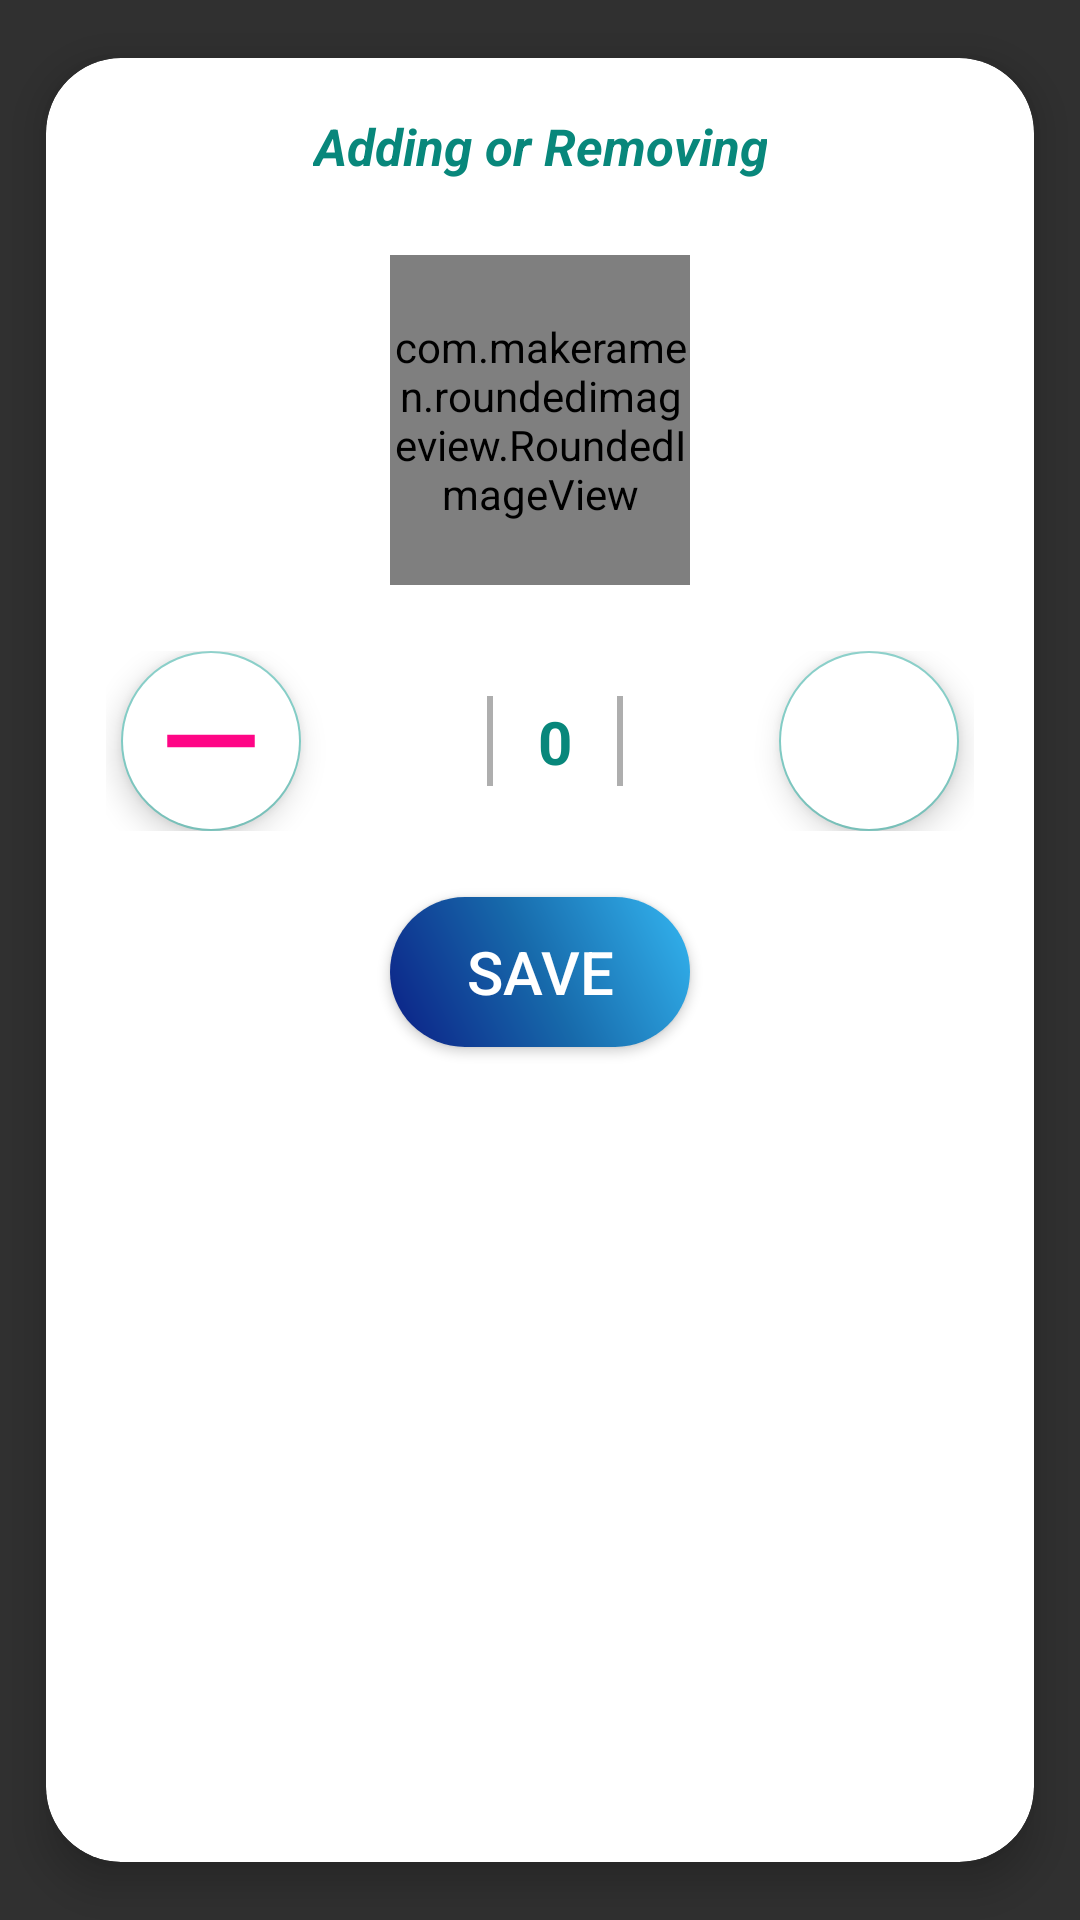

Locate icon controls on the screen. Image size 1080 x 1920, boxes as box(x1, y1, x2, y2).
remove: box(121, 651, 301, 831)
